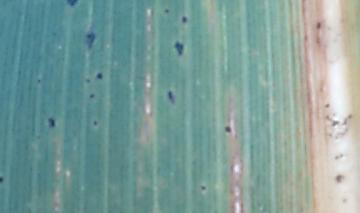tarspot: (83, 30, 95, 50), (173, 40, 185, 56), (46, 115, 56, 128), (166, 89, 175, 102), (223, 124, 232, 134), (180, 15, 189, 24), (336, 173, 344, 183), (91, 118, 99, 127), (331, 118, 340, 126), (96, 71, 103, 81), (84, 76, 92, 84), (323, 101, 331, 109), (68, 1, 78, 7), (164, 6, 170, 15), (316, 21, 322, 30), (333, 153, 340, 160), (199, 185, 207, 191), (88, 93, 95, 99), (37, 77, 42, 84), (1, 173, 4, 183), (348, 113, 353, 119)
